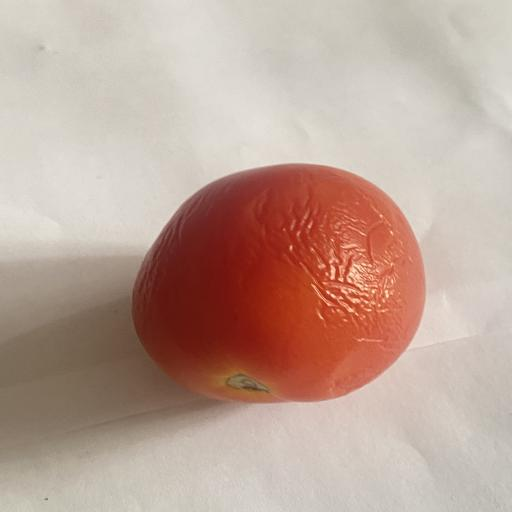spoiled: (132, 164, 425, 403)
